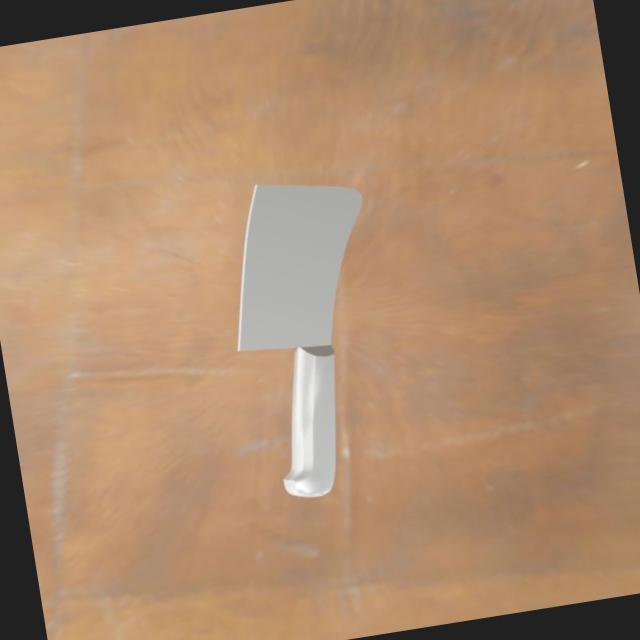knife: (260, 343, 357, 508)
